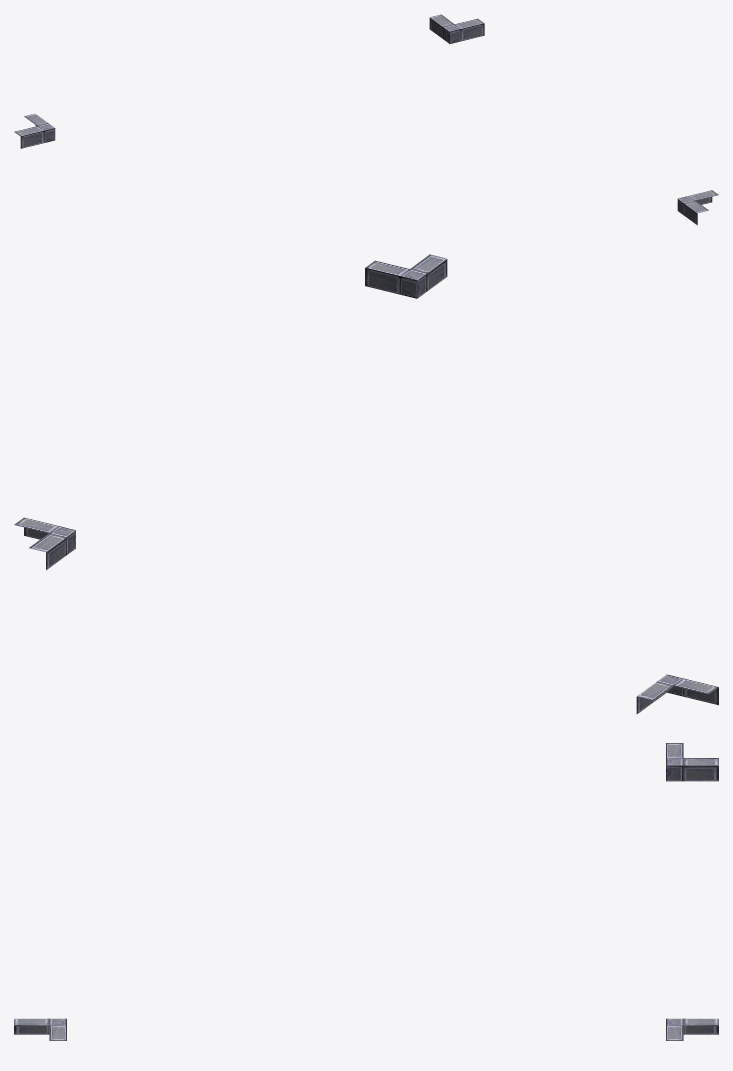
Rendered from Dungeon_plith_corner3.FBX.
The picture shows the model from 3 angles, top to bottom: view 1: azimuth 30°, elevation 25°; view 2: azimuth 150°, elevation 25°; view 3: azimuth 270°, elevation 25°; orthographic projection. The views are drawn at different scales.
Visible parts, largest first — view 1: wall_corners; view 2: wall_corners; view 3: wall_corners.
Boxes of the visible parts, left/top/right/bottom form: wall_corners: left=14, top=14, right=718, bottom=225; wall_corners: left=14, top=254, right=718, bottom=714; wall_corners: left=14, top=743, right=718, bottom=1040.
Bounding box in the file's own units: 1000 × 25 × 1000.
Materials: 1 (1 with a texture image).
